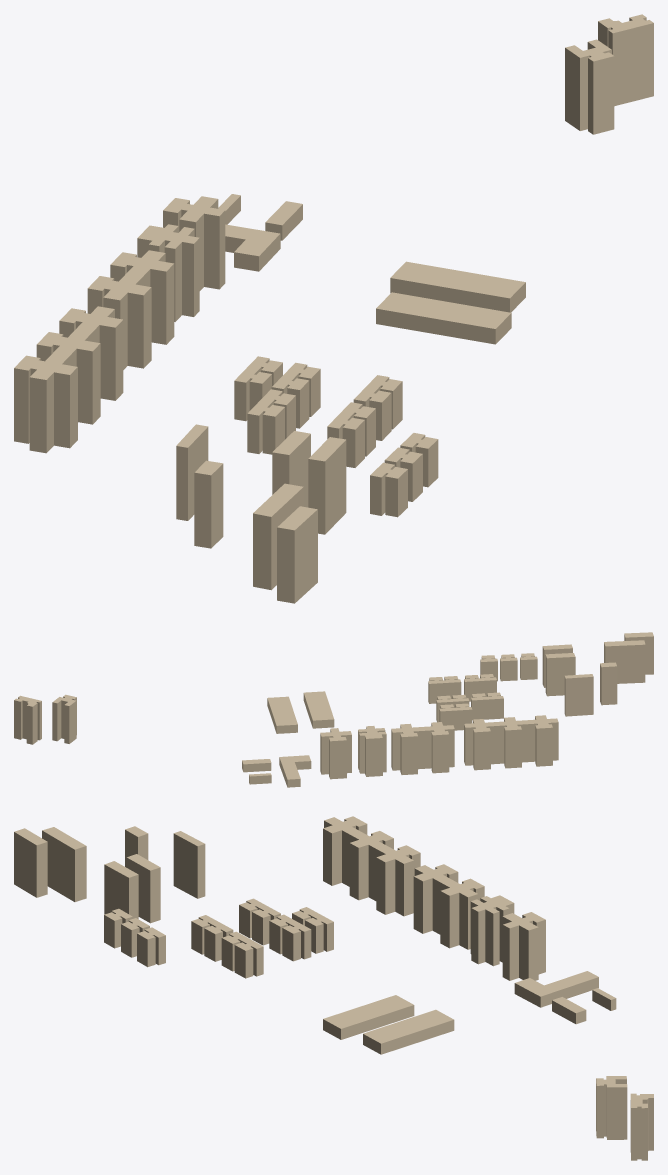
The model's file is -12_2-estimated-coarse.glb.
3 views of the same model, one above another, from view 1: azimuth 30°, elevation 25°; view 2: azimuth 150°, elevation 25°; view 3: azimuth 270°, elevation 25° (orthographic). The views are drawn at different scales.
Size of the model in its own units: 679 by 57 by 629.
